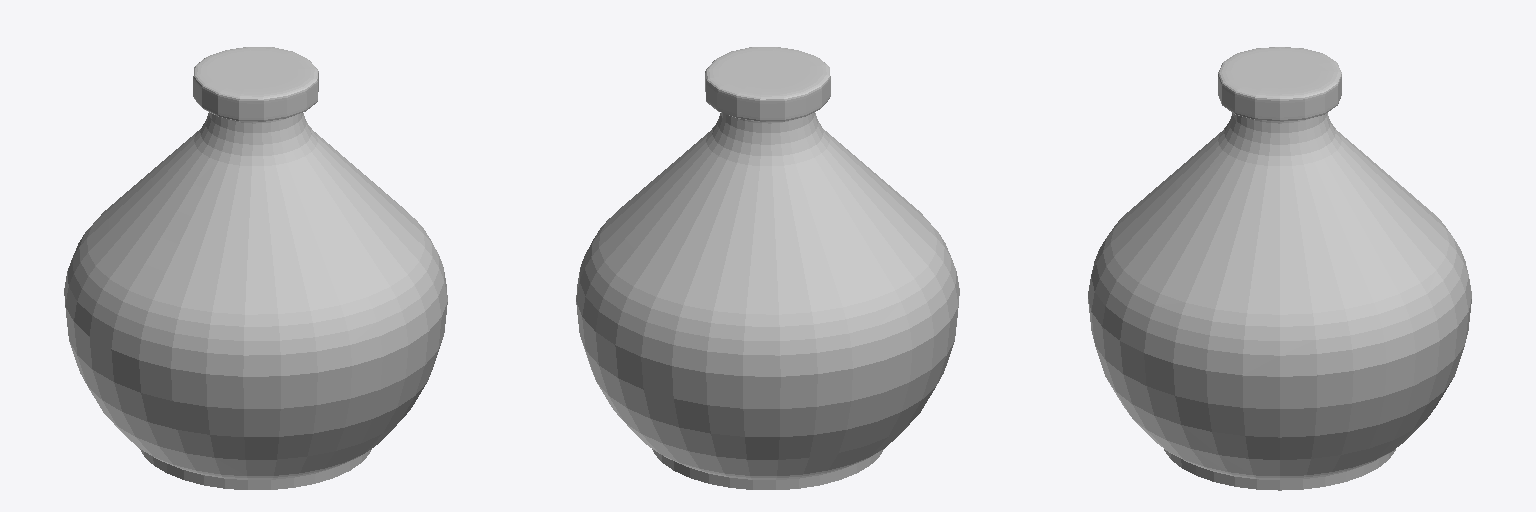
The model's file is SetA_PotionBottle_Style_02.obj.
3 renders of one model, left to right at view 1: azimuth 30°, elevation 25°; view 2: azimuth 150°, elevation 25°; view 3: azimuth 270°, elevation 25°, orthographic.
Visible parts, largest first — view 1: SetA_PotionBottle_Style_02; view 2: SetA_PotionBottle_Style_02; view 3: SetA_PotionBottle_Style_02.
Part boxes in pixels (x1,y1,x2,y2): SetA_PotionBottle_Style_02: (64,47,447,489); SetA_PotionBottle_Style_02: (576,47,959,489); SetA_PotionBottle_Style_02: (1088,47,1471,490).
Size of the model in its own units: 0.037 by 0.0392 by 0.037.